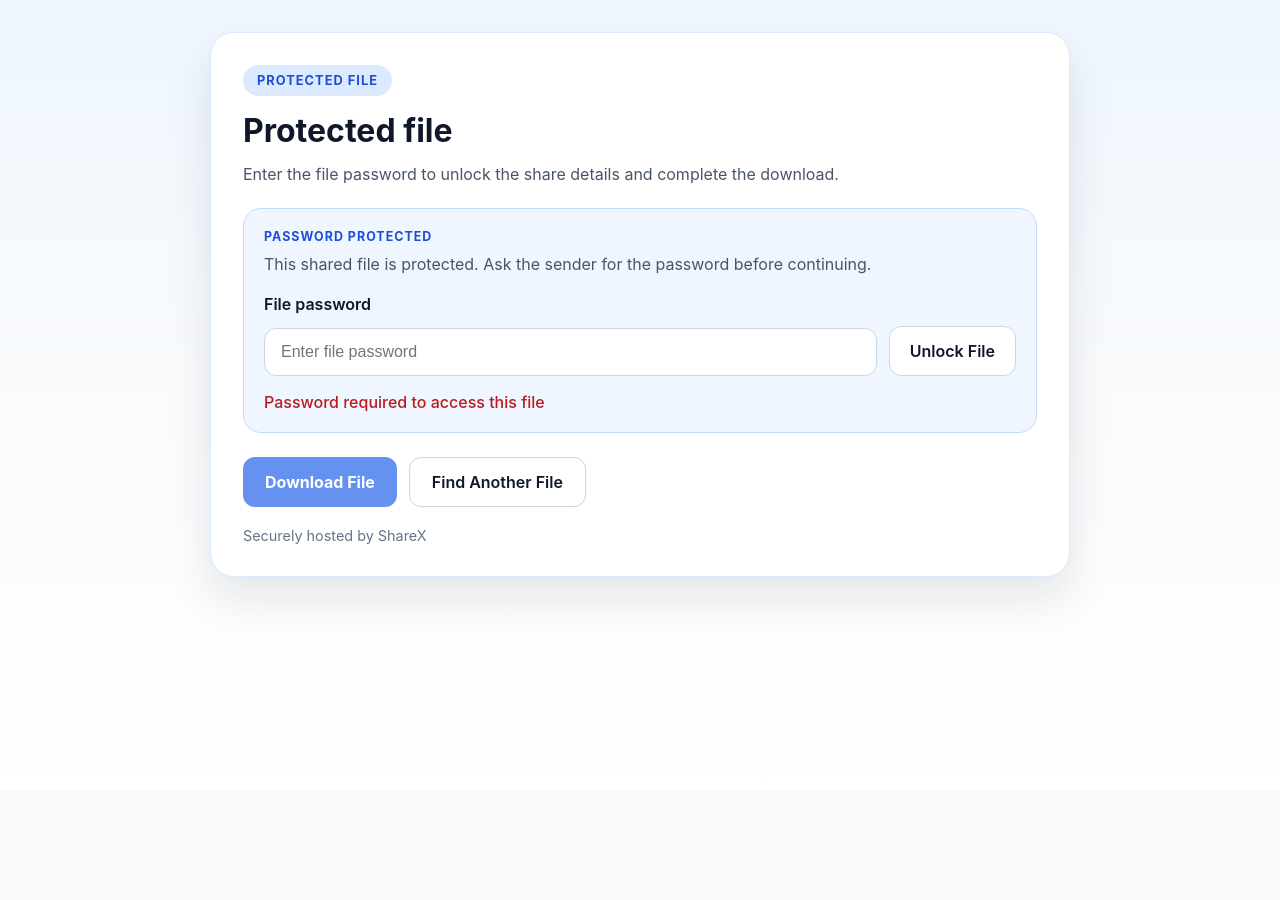
DownloadPage › unlocks protected file after entering valid password
This screenshot has width=1280, height=900.
Type "lock123" into the password field labelled "File password". click: [570, 352]
box: [264,328,877,376]
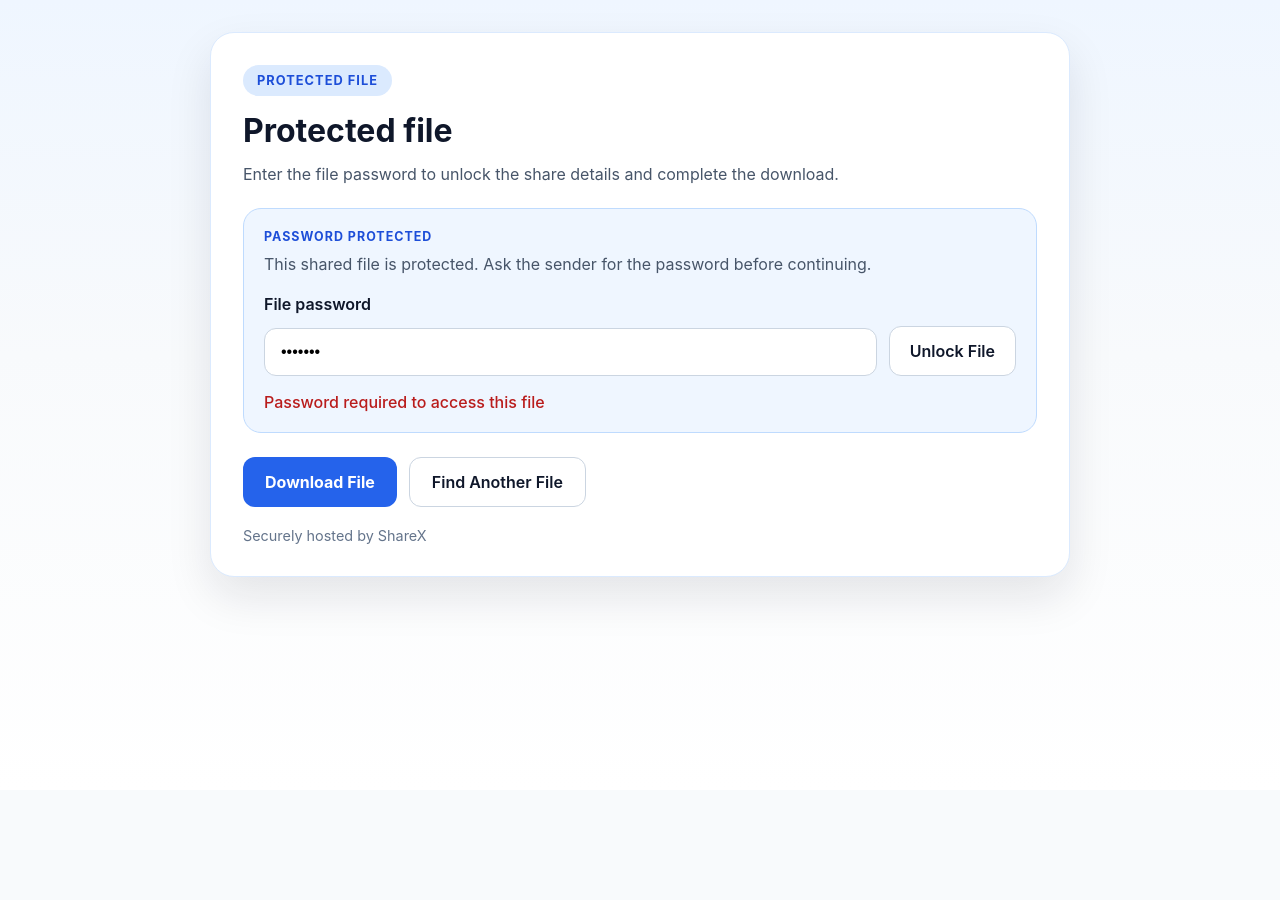
Click the button "Unlock File". click: [952, 351]
box: [889,326,1016,376]
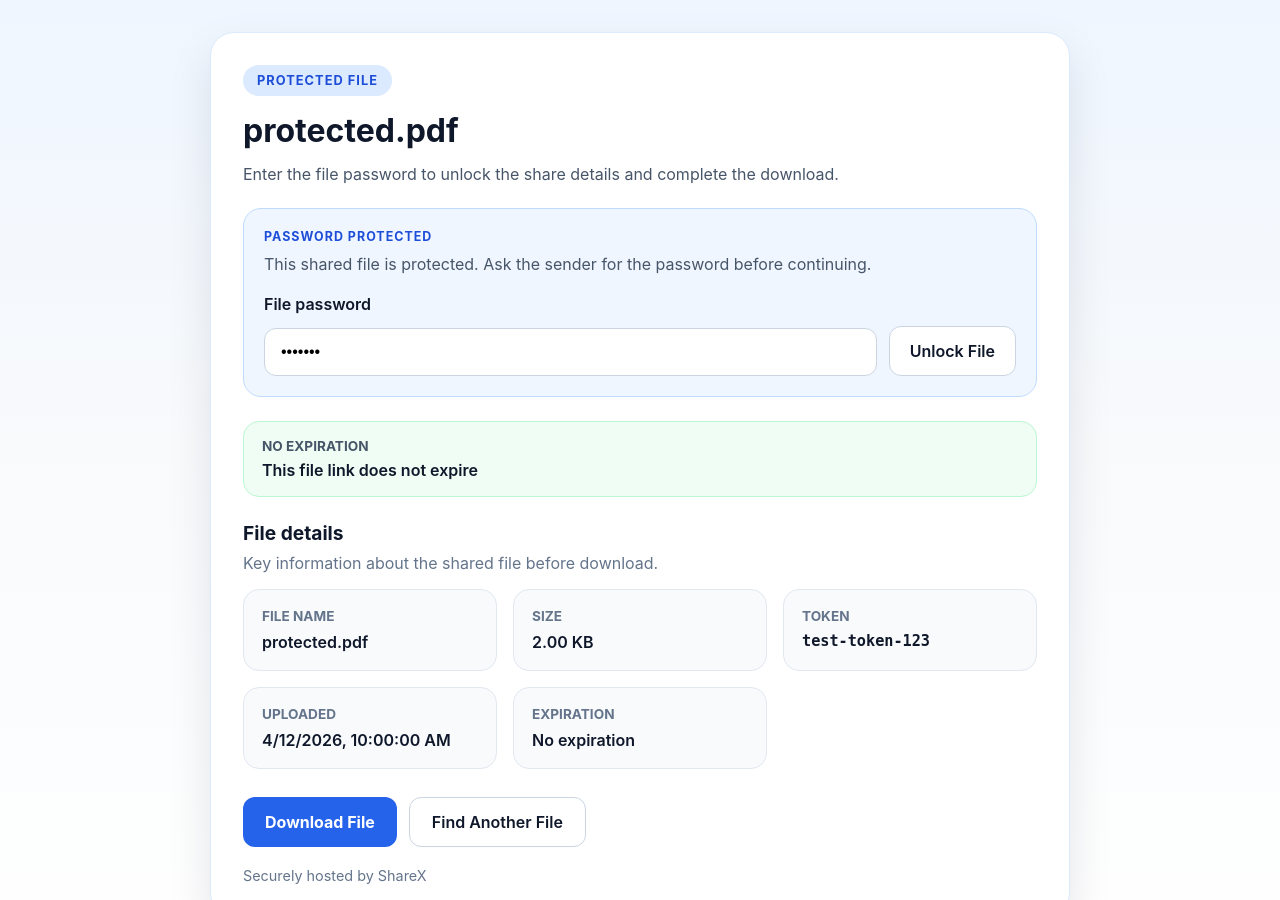
Expected: the heading "protected.pdf" is shown, [243,111,459,150]
